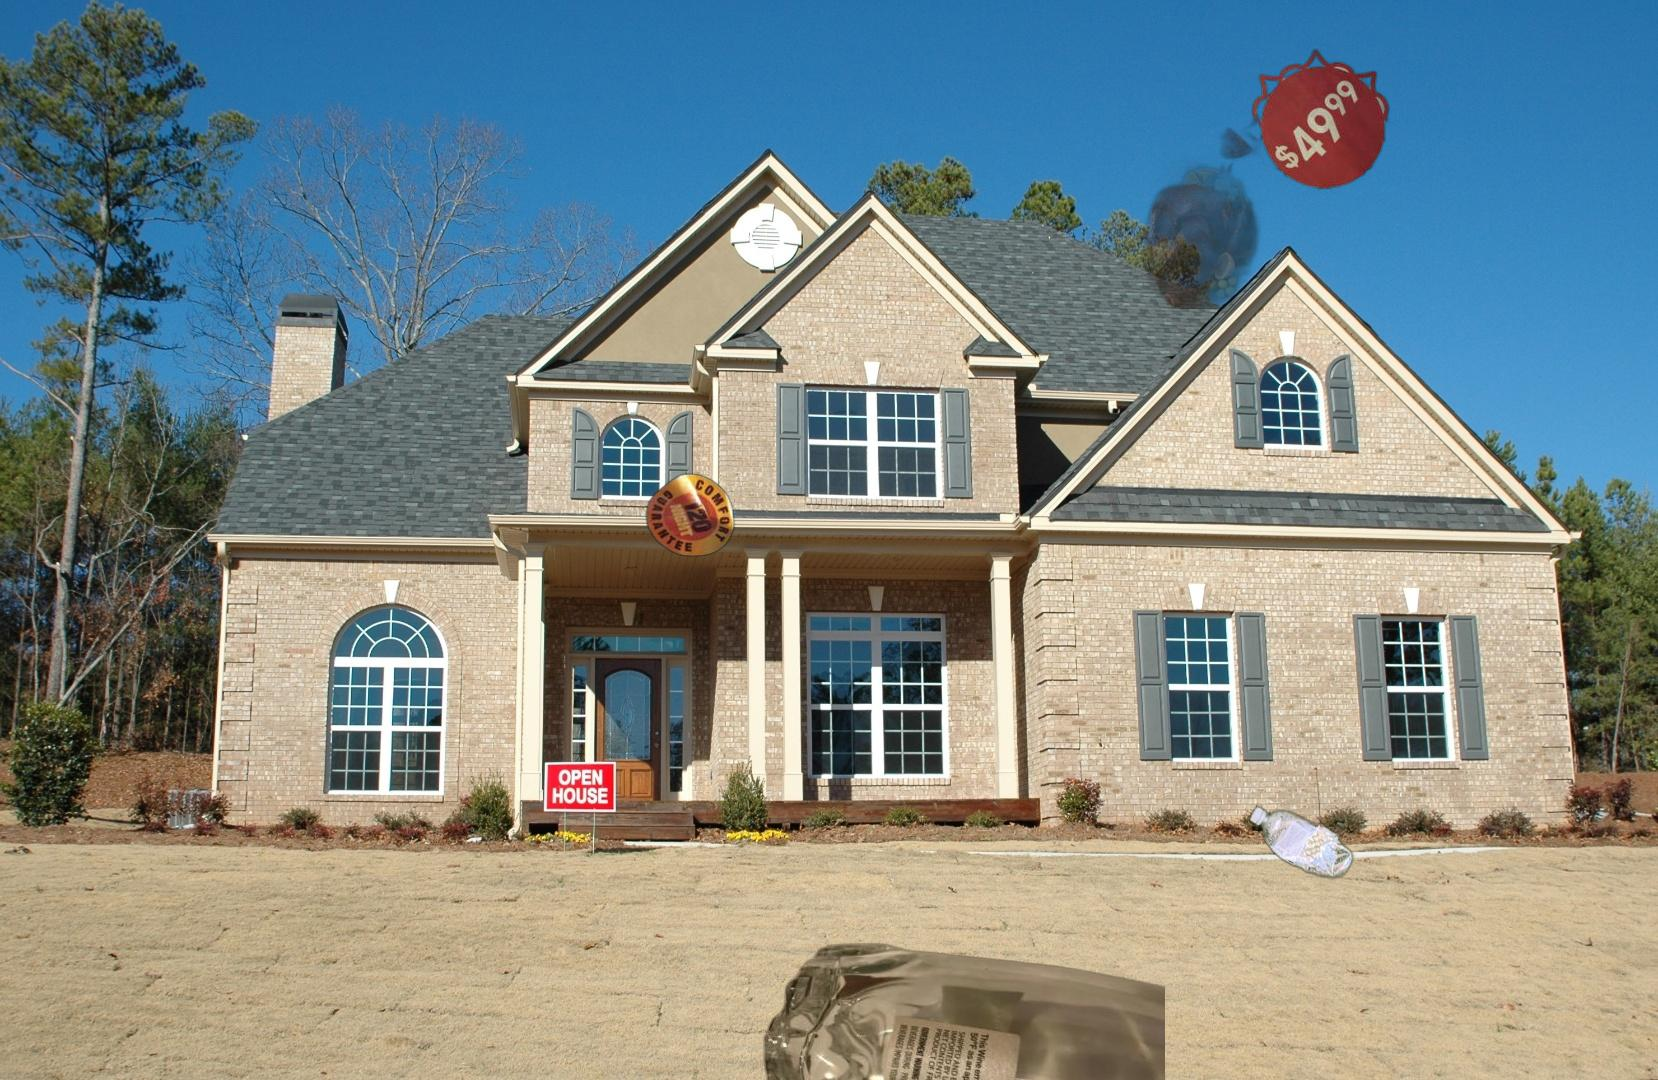glass: (752, 940, 1165, 1080)
paper: (642, 470, 970, 852), (1014, 46, 1395, 309)
plastic-bottles: (1246, 800, 1357, 884)
trashbox-cardboard: (868, 1043, 1658, 1080)
